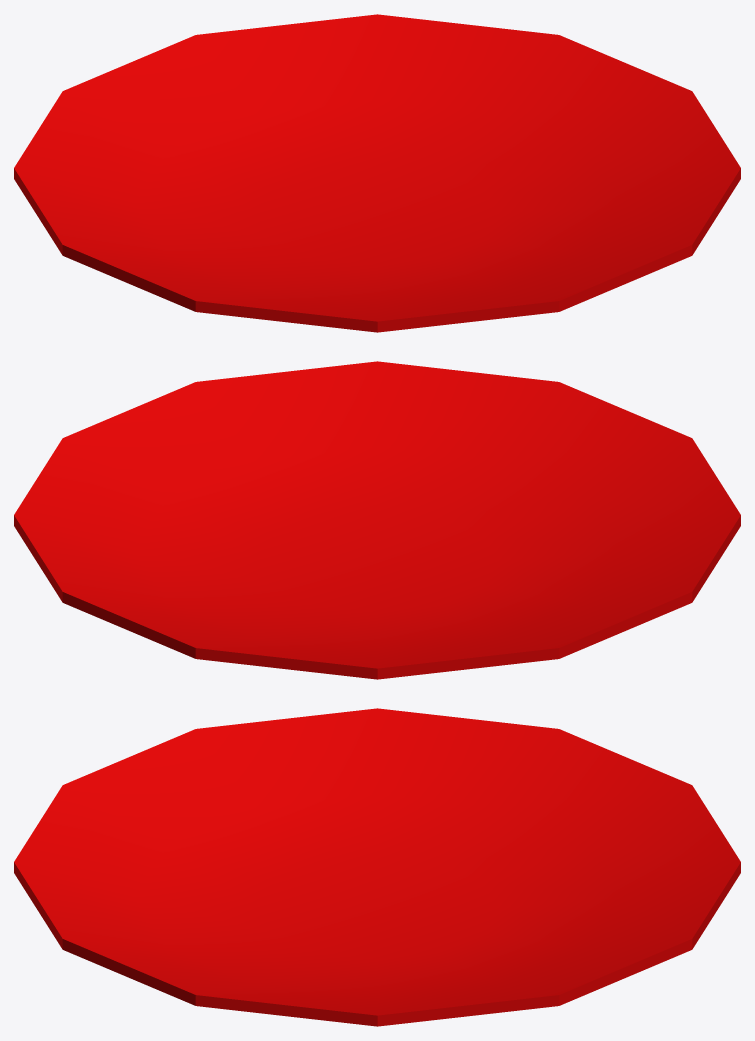
Rendered from Plate.fbx.
3 views of the same model, one above another, from view 1: azimuth 30°, elevation 25°; view 2: azimuth 150°, elevation 25°; view 3: azimuth 270°, elevation 25° (orthographic).
Parts seen in each view (by area): view 1: Plate; view 2: Plate; view 3: Plate.
Boxes of the visible parts, <box> form: Plate: <box>14,14,740,332</box>; Plate: <box>14,361,740,679</box>; Plate: <box>14,708,740,1026</box>.
Bounding box in the file's own units: 120 × 12.96 × 120.
